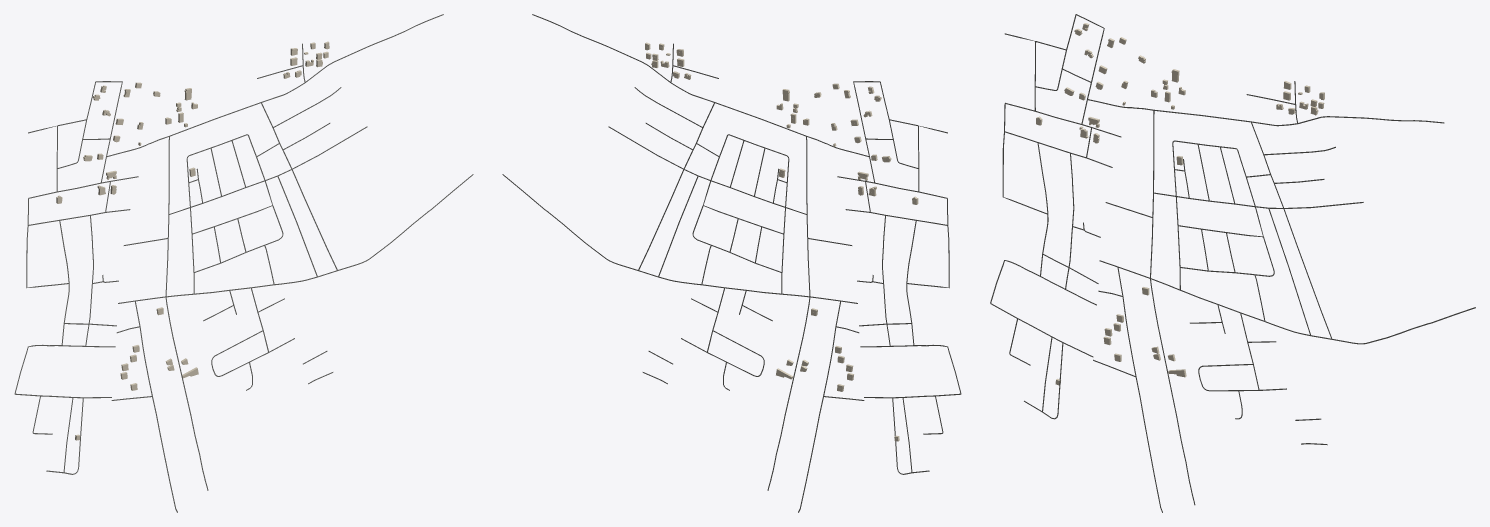
Rendered from irbid_3584_3251.glb.
3 views of the same model, side by side, from view 1: azimuth 30°, elevation 25°; view 2: azimuth 150°, elevation 25°; view 3: azimuth 330°, elevation 25° (orthographic). The views are drawn at different scales.
Parts seen in each view (by area): view 1: Road .019; view 2: Road .019; view 3: Road .019, Road.
Part boxes in pixels (x1,y1,x2,y2): Road .019: [118, 174, 473, 303]; Road .019: [502, 174, 857, 303]; Road .019: [1099, 260, 1475, 344]; Road: [1134, 107, 1444, 126].
Size of the model in its own units: 1450 by 1363 by 8.7.
